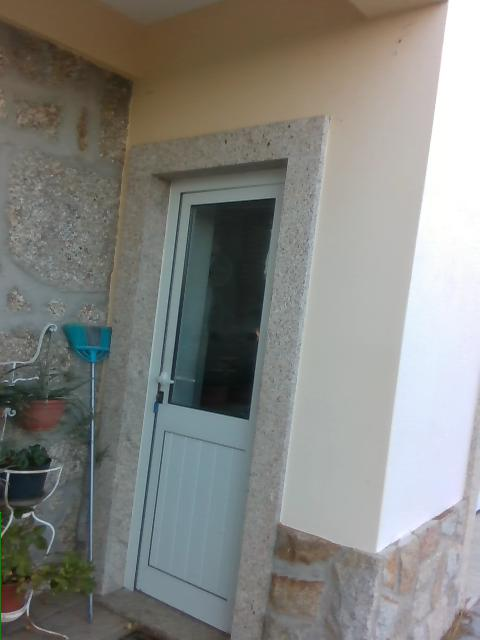door: (121, 165, 284, 629)
